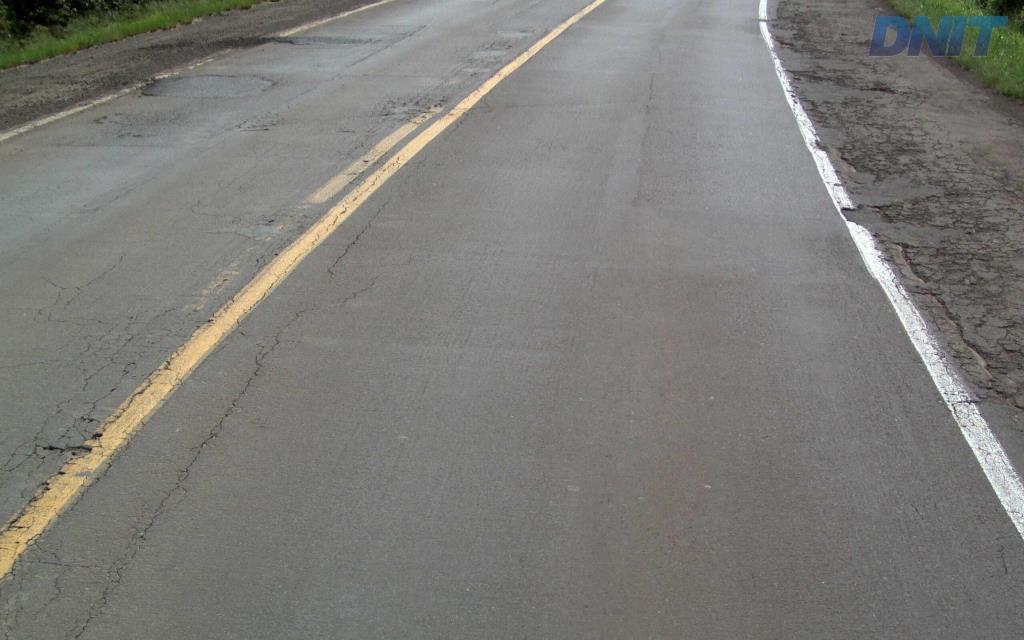crack: (171, 399, 236, 495), (125, 490, 170, 549), (98, 557, 131, 596)
